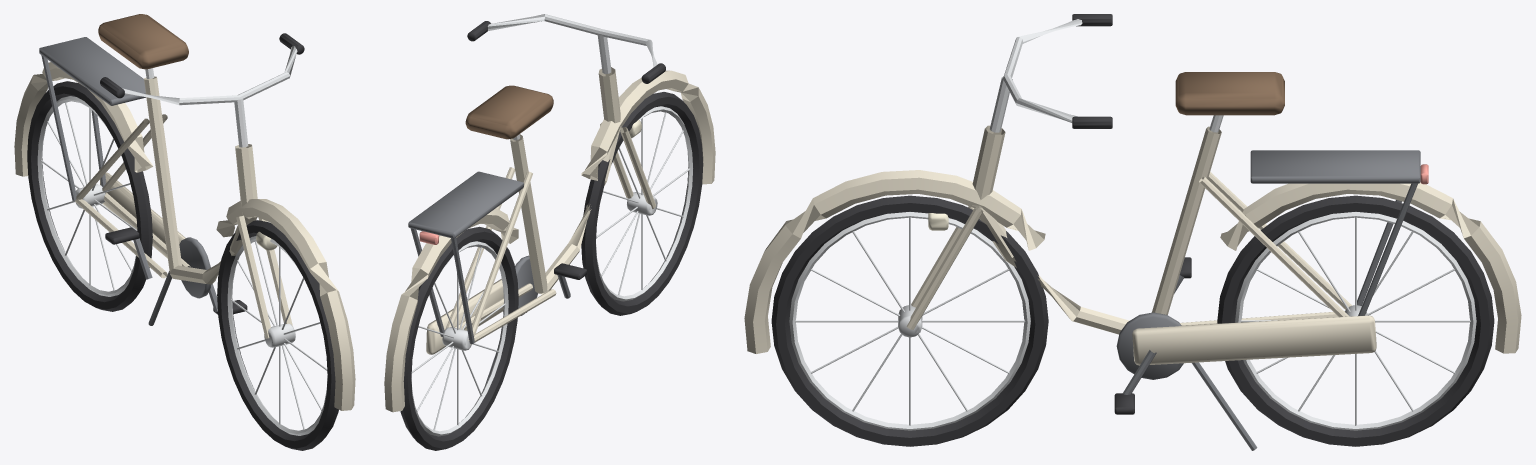
The model's file is bicycle_c.glb.
3 views of the same model, side by side, from view 1: azimuth 30°, elevation 25°; view 2: azimuth 150°, elevation 25°; view 3: azimuth 270°, elevation 25° (orthographic). The views are drawn at different scales.
Parts seen in each view (by area): view 1: Body; view 2: Body; view 3: Body.
Part boxes in pixels (x1,y1,x2,y2): Body: (14, 14, 355, 450); Body: (384, 14, 715, 450); Body: (744, 14, 1521, 450).
Size of the model in its own units: 0.6304 by 1.04 by 1.92.
